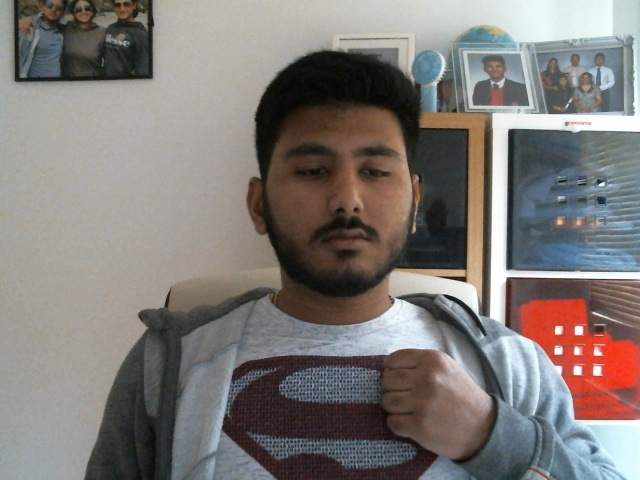morning: (380, 348, 465, 444)
